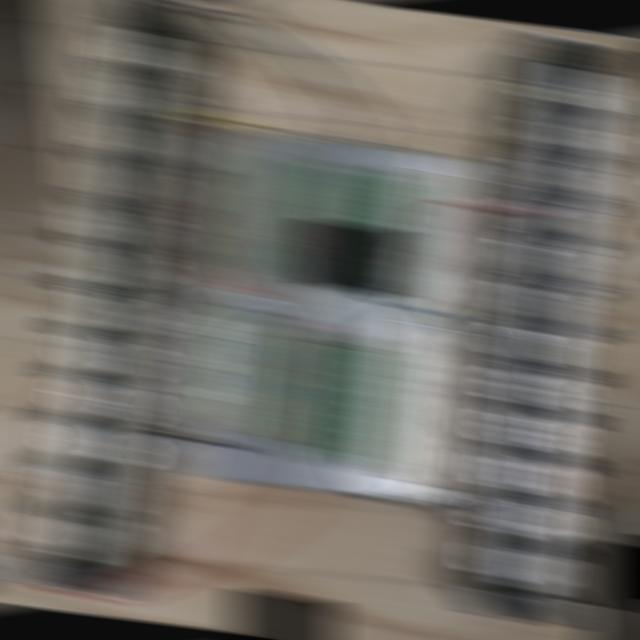Flathead_Block: (20, 0, 201, 600)
Phillips_Block: (474, 36, 632, 627)
Terminal_1: (205, 304, 269, 435), (226, 149, 288, 277)
Terminal_2: (312, 341, 373, 466), (278, 336, 339, 460), (299, 162, 360, 283), (370, 172, 429, 294), (335, 167, 394, 288)
